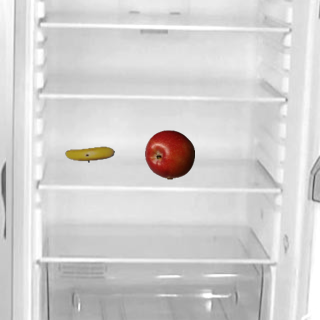Apple Braeburn: (144, 129, 194, 179)
Banana: (64, 129, 114, 179)
